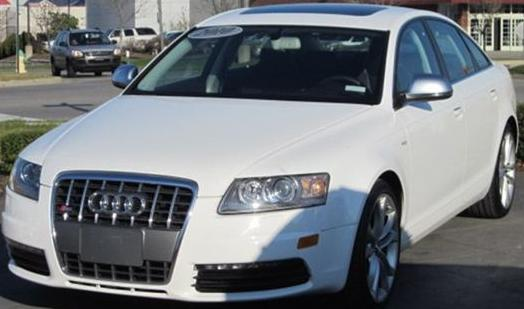front_view: (3, 163, 353, 293)
headlight: (216, 170, 333, 219)
side_glass: (386, 15, 496, 107)
